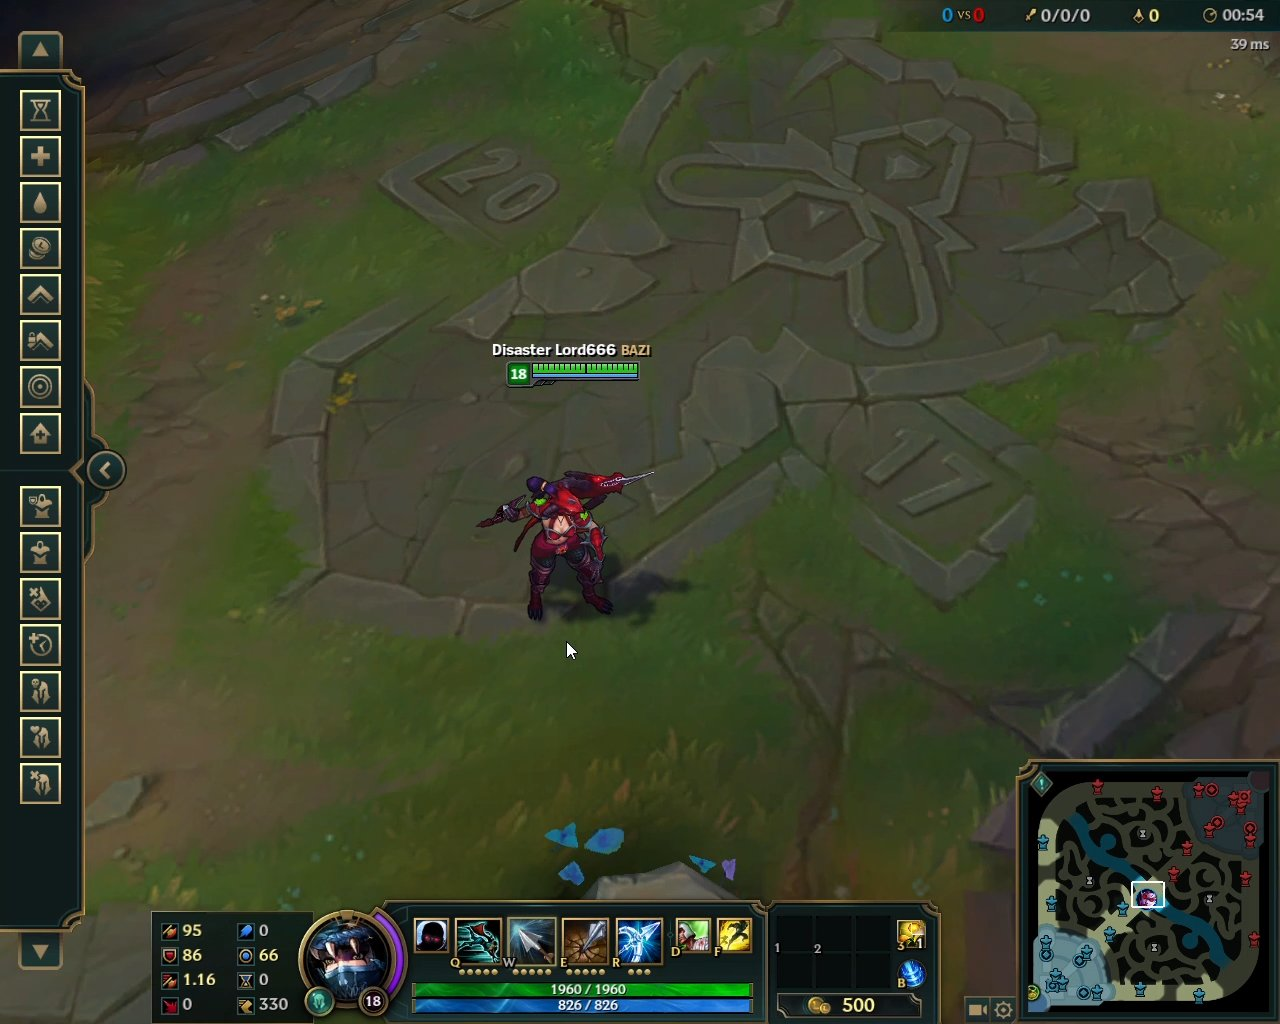Vayne: (462, 457, 664, 635)
